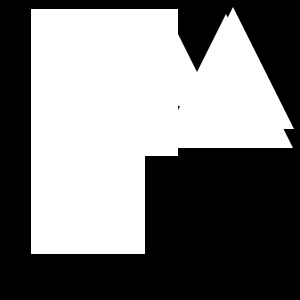circle: (31, 9, 178, 156), (31, 140, 145, 254)
triangle: (159, 14, 293, 148), (172, 7, 294, 129), (138, 30, 214, 106)
